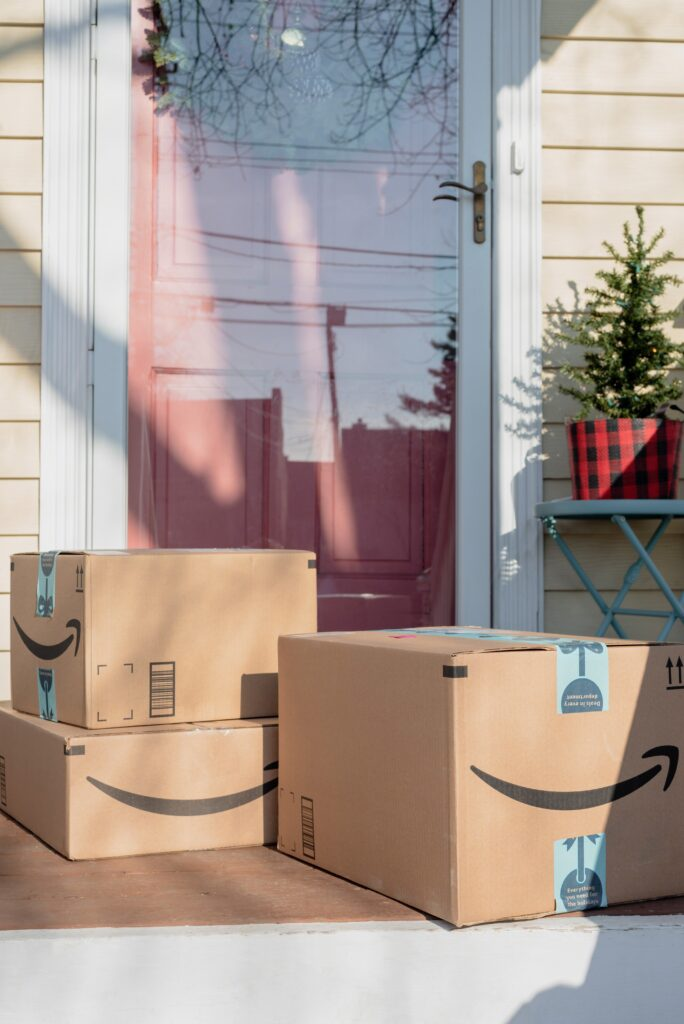package: (273, 622, 684, 935), (9, 548, 323, 719), (0, 702, 283, 862)
